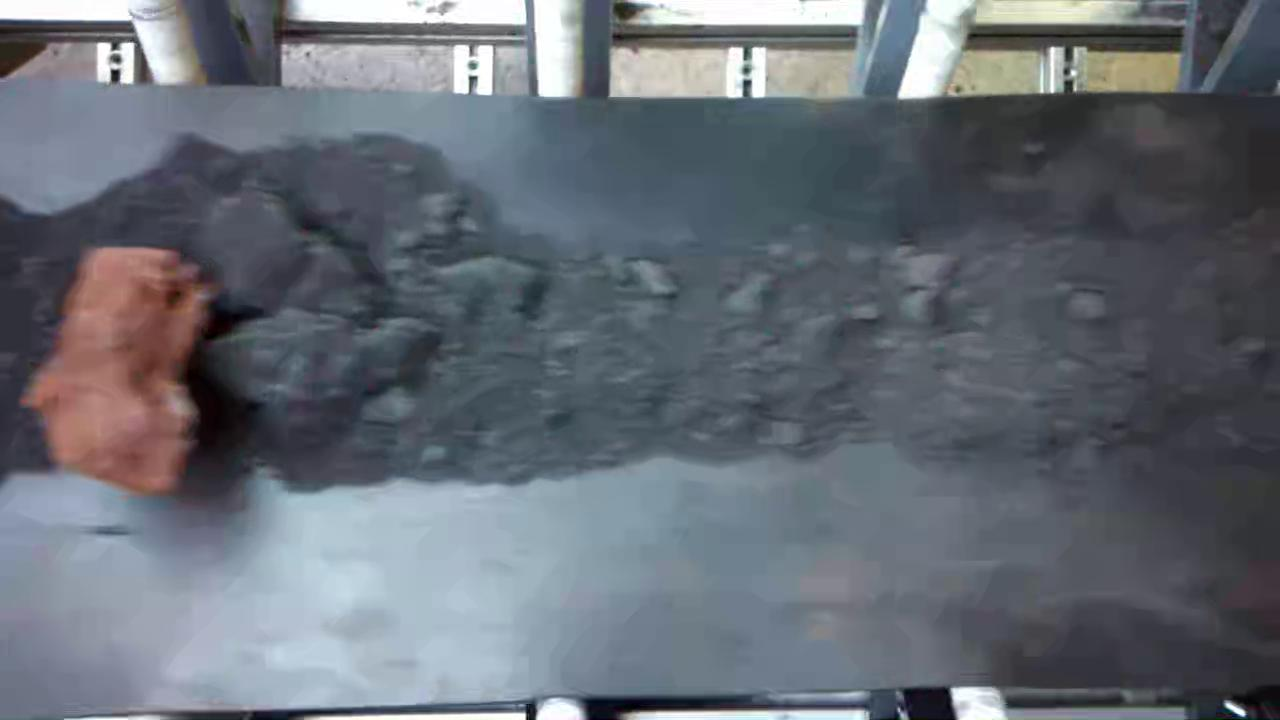conveyor: (13, 116, 1269, 665)
